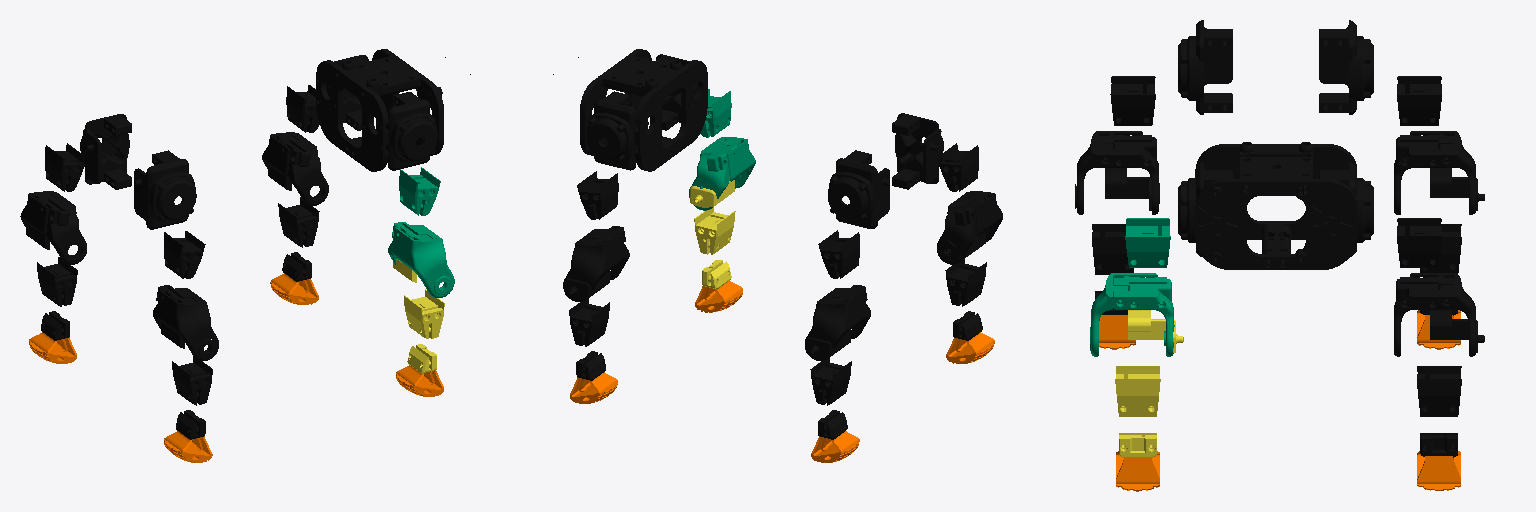
--- Facts derived from the render (not from the file) ---
Views: 3 orthographic renders of the robot side by side, from view 1: azimuth 30°, elevation 25°; view 2: azimuth 150°, elevation 25°; view 3: azimuth 270°, elevation 25°.
Model spot with 25 links and 24 joints (12 revolute, 12 fixed), rooted at base_link, posed all joints at 0.
Visible links, largest first — view 1: front_bracket, front_right_upper_leg, back_right_upper_leg, back_left_upper_leg, front_left_upper_leg, back_right_hip, back_left_hip, front_right_hip, back_right_lower_leg, front_left_lower_leg, back_left_lower_leg, front_right_lower_leg (+5 smaller); view 2: front_bracket, back_right_upper_leg, front_left_upper_leg, back_left_upper_leg, back_left_hip, front_right_upper_leg, back_right_hip, front_left_hip, front_left_lower_leg, front_right_lower_leg, back_left_lower_leg, back_right_lower_leg (+5 smaller); view 3: front_bracket, front_right_upper_leg, back_right_upper_leg, back_left_upper_leg, front_left_upper_leg, front_right_lower_leg, front_left_lower_leg, back_left_hip, back_right_hip, back_right_lower_leg, back_left_lower_leg, front_right_hip (+5 smaller).
Boxes of the visible links, box(x1,y1,x2,y2) form: front_bracket: box(316, 49, 470, 171); front_right_upper_leg: box(388, 167, 454, 297); back_right_upper_leg: box(153, 231, 218, 360); back_left_upper_leg: box(20, 143, 86, 264); front_left_upper_leg: box(262, 85, 328, 205); back_right_hip: box(134, 150, 196, 229); back_left_hip: box(80, 114, 131, 189); front_right_hip: box(376, 92, 437, 170); back_right_lower_leg: box(161, 322, 212, 439); front_left_lower_leg: box(268, 166, 319, 281); back_left_lower_leg: box(26, 225, 77, 340); front_right_lower_leg: box(393, 259, 444, 373); front_bracket: box(553, 49, 707, 171); back_right_upper_leg: box(937, 143, 1002, 264); front_left_upper_leg: box(563, 171, 629, 301); back_left_upper_leg: box(805, 230, 870, 360); back_left_hip: box(828, 150, 889, 228); front_right_upper_leg: box(689, 89, 755, 210); back_right_hip: box(892, 113, 943, 189); front_left_hip: box(586, 91, 648, 170); front_left_lower_leg: box(565, 271, 609, 380); front_right_lower_leg: box(690, 180, 735, 288); back_left_lower_leg: box(806, 330, 851, 439); back_right_lower_leg: box(945, 231, 986, 340); front_bracket: box(1195, 142, 1356, 269); front_right_upper_leg: box(1090, 218, 1174, 356); back_right_upper_leg: box(1075, 76, 1159, 214); back_left_upper_leg: box(1394, 76, 1475, 214); front_left_upper_leg: box(1394, 218, 1475, 356); front_right_lower_leg: box(1115, 310, 1183, 457); front_left_lower_leg: box(1417, 310, 1484, 457); back_left_hip: box(1319, 20, 1373, 114); back_right_hip: box(1178, 20, 1232, 114); back_right_lower_leg: box(1092, 168, 1151, 314); back_left_lower_leg: box(1420, 168, 1484, 315); front_right_hip: box(1178, 162, 1232, 256).
Bounding box of the posed robot: 0.3501 × 0.2785 × 0.2539 m (x, y, z).
Meshes: 16 distinct files referenced, 17 mesh visuals loaded (9 binary STL); not drawn: 7 (reference not matched to a file when rendering).

URDF robot description (spot):
<?xml version="1.0" encoding="utf-8"?>
<!-- =================================================================================== -->
<!-- |    This document was autogenerated by xacro from spot.urdf.xacro                | -->
<!-- |    EDITING THIS FILE BY HAND IS NOT RECOMMENDED                                 | -->
<!-- =================================================================================== -->
<robot name="spot">
  <material name="orange">
    <color rgba="1.0 0.5 0.0 1"/>
  </material>
  <material name="black">
    <color rgba="0.1 0.1 0.1 1"/>
  </material>
  <material name="grey">
    <color rgba="0.6 0.6 0.6 1"/>
  </material>
  <!-- Left Leg: prefix is front or rear -->
  <!--   <xacro:macro name="LeftLeg" params="prefix reflect">
    <link name="${prefix}_Left_Leg">
        <visual>
            <geometry>
                <box size="${leglen} 0.1 0.2"/>
            </geometry>
            <origin xyz="0 0 -${leglen/2}" rpy="0 ${pi/2} 0"/>
            <material name="white"/>
        </visual>
        <collision>
            <geometry>
                <box size="${leglen} 0.1 0.2"/>
            </geometry>
            <origin xyz="0 0 -${leglen/2}" rpy="0 ${pi/2} 0"/>
        </collision>
        <xacro:default_inertial mass="10"/>
    </link>

    <joint name="base_to_${prefix}_leg" type="fixed">
        <parent link="base_link"/>
        <child link="${prefix}_leg"/>
        <origin xyz="0 ${reflect*(width+.02)} 0.25" />
    </joint>
</xacro:macro> -->
  <!-- <xacro:include filename="$(find mini_ros)/urdf/accessories.urdf.xacro" /> -->
  <!-- Robot description -->
  <!-- STATIC Links -->
  <link name="base_link"/>
  <link name="base_inertia">
    <visual>
      <origin rpy="0 0 1.57079632679" xyz="-0.16 0.035 -0.045"/>
      <geometry>
        <mesh filename="package://mini_ros/stl/OpenQuadruped/MAINBODY.stl" scale="1 1 1"/>
      </geometry>
      <material name="orange"/>
    </visual>
    <collision>
      <origin rpy="0 0 1.57079632679" xyz="0 0 0"/>
      <geometry>
        <box size="0.114 0.2 0.1"/>
      </geometry>
    </collision>
    <inertial>
      <mass value="0.6"/>
      <origin rpy="0 0 0" xyz="0 0 0"/>
      <!-- Inertial Axes -->
      <inertia ixx="0.0025" ixy="0" ixz="0" iyx="0" iyy="0.0011498" iyz="0" izx="0" izy="0" izz="0.0026498"/>
    </inertial>
  </link>
  <gazebo reference="base_inertia">
    <material>Gazebo/Orange</material>
  </gazebo>
  <!-- m to mm -->
  <link name="battery">
    <visual>
      <origin rpy="0 0 1.57079632679" xyz="-0.15 0.035 -0.022"/>
      <geometry>
        <mesh filename="package://mini_ros/stl/OpenQuadruped/Battery.stl" scale="1 1 1"/>
      </geometry>
      <material name="black"/>
    </visual>
    <collision>
      <origin rpy="0 0 1.57079632679" xyz="0 0 0"/>
      <geometry>
        <box size="0.048 0.145 0.026"/>
      </geometry>
    </collision>
    <inertial>
      <mass value="0.4"/>
      <origin rpy="0 0 0" xyz="0 0 0"/>
      <!-- Inertial Axes -->
      <inertia ixx="0.000723366666667" ixy="0" ixz="0" iyx="0" iyy="9.93333333333e-05" iyz="0" izx="0" izy="0" izz="0.000777633333333"/>
    </inertial>
  </link>
  <gazebo reference="battery">
    <material>Gazebo/Black</material>
  </gazebo>
  <!-- m to mm -->
  <link name="chassis_left">
    <visual>
      <origin rpy="0 1.57079632679 -1.57079632679" xyz="0.016 0.003 0"/>
      <geometry>
        <mesh filename="package://mini_ros/stl/OpenQuadruped/Chassis_Left_Side.stl" scale="1 1 1"/>
      </geometry>
      <material name="black"/>
    </visual>
    <collision>
      <origin rpy="0 1.57079632679 -1.57079632679" xyz="0 0 0"/>
      <geometry>
        <box size="0.06 0.15 0.006"/>
      </geometry>
    </collision>
    <inertial>
      <mass value="0.01"/>
      <origin rpy="0 0 0" xyz="0 0 0"/>
      <!-- Inertial Axes -->
      <inertia ixx="1.878e-05" ixy="0" ixz="0" iyx="0" iyy="3.03e-06" iyz="0" izx="0" izy="0" izz="2.175e-05"/>
    </inertial>
  </link>
  <gazebo reference="chassis_left">
    <material>Gazebo/Black</material>
  </gazebo>
  <!-- m to mm -->
  <link name="chassis_right">
    <visual>
      <origin rpy="0 1.57079632679 1.57079632679" xyz="-0.016 -0.003 0"/>
      <geometry>
        <mesh filename="package://mini_ros/stl/OpenQuadruped/Chassis_Right_Side.stl" scale="1 1 1"/>
      </geometry>
      <material name="black"/>
    </visual>
    <collision>
      <origin rpy="0 1.57079632679 1.57079632679" xyz="0 0 0"/>
      <geometry>
        <box size="0.06 0.15 0.006"/>
      </geometry>
    </collision>
    <inertial>
      <mass value="0.01"/>
      <origin rpy="0 0 0" xyz="0 0 0"/>
      <!-- Inertial Axes -->
      <inertia ixx="1.878e-05" ixy="0" ixz="0" iyx="0" iyy="3.03e-06" iyz="0" izx="0" izy="0" izz="2.175e-05"/>
    </inertial>
  </link>
  <gazebo reference="chassis_right">
    <material>Gazebo/Black</material>
  </gazebo>
  <!-- m to mm -->
  <link name="front">
    <visual>
      <origin rpy="0 0 1.57079632679" xyz="-0.16 0.035 -0.045"/>
      <geometry>
        <mesh filename="package://mini_ros/stl/OpenQuadruped/Front.stl" scale="1 1 1"/>
      </geometry>
      <material name="orange"/>
    </visual>
    <collision>
      <origin rpy="0 0 1.57079632679" xyz="0.16 0 0.006"/>
      <geometry>
        <box size="0.114 0.045 0.085"/>
      </geometry>
    </collision>
    <inertial>
      <mass value="0.1"/>
      <origin rpy="0 0 0" xyz="0 0 0"/>
      <!-- Inertial Axes -->
      <inertia ixx="7.70833333333e-05" ixy="0" ixz="0" iyx="0" iyy="0.000168508333333" iyz="0" izx="0" izy="0" izz="0.000125175"/>
    </inertial>
  </link>
  <gazebo reference="front">
    <material>Gazebo/Orange</material>
  </gazebo>
  <!-- m to mm -->
  <link name="back">
    <visual>
      <origin rpy="0 0 1.57079632679" xyz="-0.16 0.035 -0.045"/>
      <geometry>
        <mesh filename="package://mini_ros/stl/OpenQuadruped/Back.stl" scale="1 1 1"/>
      </geometry>
      <material name="orange"/>
    </visual>
    <collision>
      <origin rpy="0 0 1.57079632679" xyz="-0.16 0 0.006"/>
      <geometry>
        <box size="0.114 0.075 0.085"/>
      </geometry>
    </collision>
    <inertial>
      <mass value="0.1"/>
      <origin rpy="0 0 0" xyz="0 0 0"/>
      <!-- Inertial Axes -->
      <inertia ixx="0.000107083333333" ixy="0" ixz="0" iyx="0" iyy="0.000168508333333" iyz="0" izx="0" izy="0" izz="0.000155175"/>
    </inertial>
  </link>
  <gazebo reference="back">
    <material>Gazebo/Orange</material>
  </gazebo>
  <!-- m to mm -->
  <link name="front_bracket">
    <visual>
      <origin rpy="0 0 1.57079632679" xyz="-0.16 0.035 -0.045"/>
      <geometry>
        <mesh filename="package://mini_ros/stl/OpenQuadruped/Front_Bracket.stl" scale="1 1 1"/>
      </geometry>
      <material name="black"/>
    </visual>
    <collision>
      <origin rpy="0 0 1.57079632679" xyz="0.1 0 0"/>
      <geometry>
        <box size="0.025 0.075 0.085"/>
      </geometry>
    </collision>
    <inertial>
      <mass value="0.1"/>
      <origin rpy="0 0 0" xyz="0 0 0"/>
      <!-- Inertial Axes -->
      <inertia ixx="0.000107083333333" ixy="0" ixz="0" iyx="0" iyy="6.54166666667e-05" iyz="0" izx="0" izy="0" izz="5.20833333333e-05"/>
    </inertial>
  </link>
  <gazebo reference="front_bracket">
    <material>Gazebo/Black</material>
  </gazebo>
  <!-- m to mm -->
  <link name="back_bracket">
    <visual>
      <origin rpy="0 0 1.57079632679" xyz="-0.16 0.035 -0.045"/>
      <geometry>
        <mesh filename="package://mini_ros/stl/OpenQuadruped/Back_Bracket.stl" scale="1 1 1"/>
      </geometry>
      <material name="black"/>
    </visual>
    <collision>
      <origin rpy="0 0 1.57079632679" xyz="-0.1 0 0"/>
      <geometry>
        <box size="0.025 0.075 0.085"/>
      </geometry>
    </collision>
    <inertial>
      <mass value="0.1"/>
      <origin rpy="0 0 0" xyz="0 0 0"/>
      <!-- Inertial Axes -->
      <inertia ixx="0.000107083333333" ixy="0" ixz="0" iyx="0" iyy="6.54166666667e-05" iyz="0" izx="0" izy="0" izz="5.20833333333e-05"/>
    </inertial>
  </link>
  <gazebo reference="back_bracket">
    <material>Gazebo/Black</material>
  </gazebo>
  <!-- m to mm -->
  <link name="front_left_hip">
    <visual>
      <origin rpy="0 0 1.57079632679" xyz="-0.25 -0.0044 -0.067"/>
      <geometry>
        <mesh filename="package://mini_ros/stl/OpenQuadruped/LEFT_HIP.stl" scale="1 1 1"/>
      </geometry>
      <material name="black"/>
    </visual>
    <collision>
      <origin rpy="0 0 1.57079632679" xyz="0.015 0.01 -0.01"/>
      <geometry>
        <box size="0.05 0.065 0.065"/>
      </geometry>
    </collision>
    <inertial>
      <mass value="0.2"/>
      <origin rpy="0 0 0" xyz="0 0.075 0"/>
      <!-- Inertial Axes -->
      <inertia ixx="0.000140833333333" ixy="0" ixz="0" iyx="0" iyy="0.000112083333333" iyz="0" izx="0" izy="0" izz="0.000112083333333"/>
    </inertial>
  </link>
  <gazebo reference="front_left_hip">
    <material>Gazebo/Black</material>
  </gazebo>
  <joint name="motor_front_left_hip" type="revolute">
    <axis xyz="1 0 0"/>
    <origin rpy="0 0 0" xyz="0.0915 0.0394 0.022"/>
    <parent link="front_bracket"/>
    <child link="front_left_hip"/>
    <limit effort="4.0" lower="-1.04" upper="1.04" velocity="4.0"/>
    <joint_properties damping="0.0" friction="0.0"/>
  </joint>
  <link name="front_left_upper_leg">
    <visual>
      <origin rpy="0 0 1.57079632679" xyz="-0.252 -0.05 -0.055"/>
      <geometry>
        <mesh filename="package://mini_ros/stl/OpenQuadruped/LEFT_UPPER_LEG.stl" scale="1 1 1"/>
      </geometry>
      <material name="black"/>
    </visual>
    <collision>
      <origin rpy="0 0 1.57079632679" xyz="0 0.02 -0.05"/>
      <geometry>
        <box size="0.035 0.035 0.11"/>
      </geometry>
    </collision>
    <inertial>
      <mass value="0.13"/>
      <origin rpy="0 0 0" xyz="-0.005 0.0175 -0.055"/>
      <!-- Inertial Axes -->
      <inertia ixx="0.000144354166667" ixy="0" ixz="0" iyx="0" iyy="0.000144354166667" iyz="0" izx="0" izy="0" izz="2.65416666667e-05"/>
    </inertial>
  </link>
  <gazebo reference="front_left_upper_leg">
    <material>Gazebo/Black</material>
  </gazebo>
  <joint name="motor_front_left_upper_leg" type="revolute">
    <axis xyz="0 1 0"/>
    <origin rpy="0 0 0" xyz="0.0015 0.045 -0.0087"/>
    <parent link="front_left_hip"/>
    <child link="front_left_upper_leg"/>
    <limit effort="4.0" lower="-1.57079632679" upper="2.59" velocity="4.0"/>
    <joint_properties damping="0.0" friction="0.0"/>
  </joint>
  <link name="front_left_lower_leg">
    <visual>
      <origin rpy="0 0 1.57079632679" xyz="-0.247 -0.068 0.0535"/>
      <geometry>
        <mesh filename="package://mini_ros/stl/OpenQuadruped/LEFT_LOWER_LEG.stl" scale="1 1 1"/>
      </geometry>
      <material name="black"/>
    </visual>
    <collision>
      <origin rpy="0 0 1.57079632679" xyz="0 0 -0.06"/>
      <geometry>
        <box size="0.035 0.035 0.12"/>
      </geometry>
    </collision>
    <inertial>
      <mass value="0.05"/>
      <origin rpy="0 0 0" xyz="-0.01 0 -0.06"/>
      <!-- Inertial Axes -->
      <inertia ixx="6.51041666667e-05" ixy="0" ixz="0" iyx="0" iyy="6.51041666667e-05" iyz="0" izx="0" izy="0" izz="1.02083333333e-05"/>
    </inertial>
  </link>
  <gazebo reference="front_left_lower_leg">
    <material>Gazebo/Black</material>
  </gazebo>
  <joint name="motor_front_left_lower_leg" type="revolute">
    <axis xyz="0 1 0"/>
    <origin rpy="0 0 0" xyz="-0.005 0.018 -0.109"/>
    <parent link="front_left_upper_leg"/>
    <child link="front_left_lower_leg"/>
    <limit effort="4.0" lower="-2.9" upper="1.57079632679" velocity="4.0"/>
    <joint_properties damping="0.0" friction="0.0"/>
  </joint>
  <link name="front_left_foot">
    <visual>
      <origin rpy="0 0 1.57079632679" xyz="-0.247 -0.068 0.18"/>
      <geometry>
        <mesh filename="package://mini_ros/stl/OpenQuadruped/LEFT_FOOT.stl" scale="1 1 1"/>
      </geometry>
      <material name="orange"/>
    </visual>
    <collision>
      <origin rpy="0 0 1.57079632679" xyz="-0.247 -0.068 0.18"/>
      <geometry>
        <mesh filename="package://mini_ros/stl/OpenQuadruped/LEFT_FOOT.stl" scale="1 1 1"/>
      </geometry>
      <contact_coefficients mu="10.1"/>
    </collision>
    <inertial>
      <mass value="0.005"/>
      <origin rpy="0 0 0" xyz="0 0 0"/>
      <!-- Inertial Axes -->
      <inertia ixx="3.52083333333e-06" ixy="0" ixz="0" iyx="0" iyy="2.80208333333e-06" iyz="0" izx="0" izy="0" izz="2.80208333333e-06"/>
    </inertial>
  </link>
  <gazebo reference="front_left_foot">
    <kp>1000000.0</kp>
    <kd>1.0</kd>
    <mu1>0.8</mu1>
    <mu2>0.8</mu2>
    <maxVel>0.0</maxVel>
    <minDepth>0.001</minDepth>
    <material>Gazebo/Orange</material>
  </gazebo>
  <joint name="front_left_leg_foot" type="fixed">
    <origin rpy="0 0 0" xyz="0 0 -0.1265"/>
    <parent link="front_left_lower_leg"/>
    <child link="front_left_foot"/>
  </joint>
  <link name="back_left_hip">
    <visual>
      <origin rpy="0 0 1.57079632679" xyz="-0.25 -0.0044 -0.067"/>
      <geometry>
        <mesh filename="package://mini_ros/stl/OpenQuadruped/LEFT_HIP.stl" scale="1 1 1"/>
      </geometry>
      <material name="black"/>
    </visual>
    <collision>
      <origin rpy="0 0 1.57079632679" xyz="0.015 0.01 -0.01"/>
      <geometry>
        <box size="0.05 0.065 0.065"/>
      </geometry>
    </collision>
    <inertial>
      <mass value="0.2"/>
      <origin rpy="0 0 0" xyz="0 0.075 0"/>
      <!-- Inertial Axes -->
      <inertia ixx="0.000140833333333" ixy="0" ixz="0" iyx="0" iyy="0.000112083333333" iyz="0" izx="0" izy="0" izz="0.000112083333333"/>
    </inertial>
  </link>
  <gazebo reference="back_left_hip">
    <material>Gazebo/Black</material>
  </gazebo>
  <joint name="motor_back_left_hip" type="revolute">
    <axis xyz="1 0 0"/>
    <origin rpy="0 0 0" xyz="-0.1365 0.0394 0.022"/>
    <parent link="back_bracket"/>
    <child link="back_left_hip"/>
    <limit effort="4.0" lower="-1.04" upper="1.04" velocity="4.0"/>
    <joint_properties damping="0.0" friction="0.0"/>
  </joint>
  <link name="back_left_upper_leg">
    <visual>
      <origin rpy="0 0 1.57079632679" xyz="-0.252 -0.05 -0.055"/>
      <geometry>
        <mesh filename="package://mini_ros/stl/OpenQuadruped/LEFT_UPPER_LEG.stl" scale="1 1 1"/>
      </geometry>
      <material name="black"/>
    </visual>
    <collision>
      <origin rpy="0 0 1.57079632679" xyz="0 0.02 -0.05"/>
      <geometry>
        <box size="0.035 0.035 0.11"/>
      </geometry>
    </collision>
    <inertial>
      <mass value="0.13"/>
      <origin rpy="0 0 0" xyz="-0.005 0.0175 -0.055"/>
      <!-- Inertial Axes -->
      <inertia ixx="0.000144354166667" ixy="0" ixz="0" iyx="0" iyy="0.000144354166667" iyz="0" izx="0" izy="0" izz="2.65416666667e-05"/>
    </inertial>
  </link>
  <gazebo reference="back_left_upper_leg">
    <material>Gazebo/Black</material>
  </gazebo>
  <joint name="motor_back_left_upper_leg" type="revolute">
    <axis xyz="0 1 0"/>
    <origin rpy="0 0 0" xyz="0.0015 0.045 -0.0087"/>
    <parent link="back_left_hip"/>
    <child link="back_left_upper_leg"/>
    <limit effort="4.0" lower="-1.57079632679" upper="2.59" velocity="4.0"/>
    <joint_properties damping="0.0" friction="0.0"/>
  </joint>
  <link name="back_left_lower_leg">
    <visual>
      <origin rpy="0 0 1.57079632679" xyz="-0.247 -0.068 0.0535"/>
      <geometry>
        <mesh filename="package://mini_ros/stl/OpenQuadruped/LEFT_LOWER_LEG.stl" scale="1 1 1"/>
      </geometry>
      <material name="black"/>
    </visual>
    <collision>
      <origin rpy="0 0 1.57079632679" xyz="0 0 -0.06"/>
      <geometry>
        <box size="0.035 0.035 0.12"/>
      </geometry>
    </collision>
    <inertial>
      <mass value="0.05"/>
      <origin rpy="0 0 0" xyz="-0.01 0 -0.06"/>
      <!-- Inertial Axes -->
      <inertia ixx="6.51041666667e-05" ixy="0" ixz="0" iyx="0" iyy="6.51041666667e-05" iyz="0" izx="0" izy="0" izz="1.02083333333e-05"/>
    </inertial>
  </link>
  <gazebo reference="back_left_lower_leg">
    <material>Gazebo/Black</material>
  </gazebo>
  <joint name="motor_back_left_lower_leg" type="revolute">
    <axis xyz="0 1 0"/>
    <origin rpy="0 0 0" xyz="-0.005 0.018 -0.109"/>
    <parent link="back_left_upper_leg"/>
    <child link="back_left_lower_leg"/>
    <limit effort="4.0" lower="-2.9" upper="1.57079632679" velocity="4.0"/>
    <joint_properties damping="0.0" friction="0.0"/>
  </joint>
  <link name="back_left_foot">
    <visual>
      <origin rpy="0 0 1.57079632679" xyz="-0.247 -0.068 0.18"/>
      <geometry>
        <mesh filename="package://mini_ros/stl/OpenQuadruped/LEFT_FOOT.stl" scale="1 1 1"/>
      </geometry>
      <material name="orange"/>
    </visual>
    <collision>
      <origin rpy="0 0 1.57079632679" xyz="-0.247 -0.068 0.18"/>
      <geometry>
        <mesh filename="package://mini_ros/stl/OpenQuadruped/LEFT_FOOT.stl" scale="1 1 1"/>
      </geometry>
      <contact_coefficients mu="10.1"/>
    </collision>
    <inertial>
      <mass value="0.005"/>
      <origin rpy="0 0 0" xyz="0 0 0"/>
      <!-- Inertial Axes -->
      <inertia ixx="3.52083333333e-06" ixy="0" ixz="0" iyx="0" iyy="2.80208333333e-06" iyz="0" izx="0" izy="0" izz="2.80208333333e-06"/>
    </inertial>
  </link>
  <gazebo reference="back_left_foot">
    <kp>1000000.0</kp>
    <kd>1.0</kd>
    <mu1>0.8</mu1>
    <mu2>0.8</mu2>
    <maxVel>0.0</maxVel>
    <minDepth>0.001</minDepth>
    <material>Gazebo/Orange</material>
  </gazebo>
  <joint name="back_left_leg_foot" type="fixed">
    <origin rpy="0 0 0" xyz="0 0 -0.1265"/>
    <parent link="back_left_lower_leg"/>
    <child link="back_left_foot"/>
  </joint>
  <link name="front_right_hip">
    <visual>
      <origin rpy="0 0 1.57079632679" xyz="-0.25 0.074 -0.067"/>
      <geometry>
        <mesh filename="package://mini_ros/stl/OpenQuadruped/RIGHT_HIP.stl" scale="1 1 1"/>
      </geometry>
      <material name="black"/>
    </visual>
    <collision>
      <origin rpy="0 0 1.57079632679" xyz="0.015 -0.01 -0.01"/>
      <geometry>
        <box size="0.05 0.065 0.065"/>
      </geometry>
    </collision>
    <inertial>
      <mass value="0.2"/>
      <origin rpy="0 0 0" xyz="0 -0.075 0"/>
      <!-- Inertial Axes -->
      <inertia ixx="0.000140833333333" ixy="0" ixz="0" iyx="0" iyy="0.000112083333333" iyz="0" izx="0" izy="0" izz="0.000112083333333"/>
    </inertial>
  </link>
  <gazebo reference="front_right_hip">
    <material>Gazebo/Black</material>
  </gazebo>
  <joint name="motor_front_right_hip" type="revolute">
    <axis xyz="1 0 0"/>
    <origin rpy="0 0 0" xyz="0.0915 -0.0394 0.022"/>
    <parent link="front_bracket"/>
    <child link="front_right_hip"/>
    <limit effort="4.0" lower="-1.04" upper="1.04" velocity="4.0"/>
    <joint_properties damping="0.0" friction="0.0"/>
  </joint>

  
  <link name="front_right_upper_leg">
    <visual>
      <origin rpy="0 0 1.57079632679" xyz="-0.252 0.13 -0.053"/>
      <geometry>
        <mesh filename="package://mini_ros/stl/OpenQuadruped/RIGHT_UPPER_LEG.stl" scale="1 1 1"/>
      </geometry>
      <material name="maroon"/>
    </visual>
    <collision>
      <origin rpy="0 0 1.57079632679" xyz="0 -0.01 -0.038"/>
      <geometry>
        <box size="0.035 0.035 0.11"/>
      </geometry>
    </collision>
    <inertial>
      <mass value="0.13"/>
      <origin rpy="0 0 0" xyz="-0.005 -0.017 -0.053"/>
      <!-- Inertial Axes -->
      <inertia ixx="0.000144354166667" ixy="0" ixz="0" iyx="0" iyy="0.000144354166667" iyz="0" izx="0" izy="0" izz="2.65416666667e-05"/>
    </inertial>
  </link>
  <gazebo reference="front_right_upper_leg">
  </gazebo>
  <joint name="motor_front_right_upper_leg" type="revolute">
    <axis xyz="0 1 0"/>
    <origin rpy="0 0 0" xyz="0.0015 -0.045 -0.011"/>
    <parent link="front_right_hip"/>
    <child link="front_right_upper_leg"/>
    <limit effort="4.0" lower="-1.57079632679" upper="2.59" velocity="4.0"/>
    <joint_properties damping="0.0" friction="0.0"/>
  </joint>





  <link name="front_right_lower_leg">
    <visual>
      <origin rpy="0 0 1.57079632679" xyz="-0.247 0.138 0.0535"/>
      <geometry>
        <mesh filename="package://mini_ros/stl/OpenQuadruped/RIGHT_LOWER_LEG.stl" scale="1 1 1"/>
      </geometry>
      <material name="yellow"/>
    </visual>
    <collision>
      <origin rpy="0 0 1.57079632679" xyz="0 -0.01 -0.04"/>
      <geometry>
        <box size="0.035 0.035 0.11"/>
      </geometry>
    </collision>
    <inertial>
      <mass value="0.05"/>
      <origin rpy="0 0 0" xyz="-0.01 0 -0.06"/>
      <!-- Inertial Axes -->
      <inertia ixx="5.55208333333e-05" ixy="0" ixz="0" iyx="0" iyy="5.55208333333e-05" iyz="0" izx="0" izy="0" izz="1.02083333333e-05"/>
    </inertial>
  </link>
  <gazebo reference="front_right_lower_leg">
  </gazebo>
  <joint name="motor_front_right_lower_leg" type="revolute">
    <axis xyz="0 1 0"/>
    <origin rpy="0 0 0" xyz="-0.005 -0.002 -0.1068"/>
    <parent link="front_right_upper_leg"/>
    <child link="front_right_lower_leg"/>
    <limit effort="4.0" lower="-2.9" upper="1.57079632679" velocity="4.0"/>
    <joint_properties damping="0.0" friction="0.0"/>
  </joint>

  <link name="front_right_foot">
    <visual>
      <origin rpy="0 0 1.57079632679" xyz="-0.247 0.138 0.18"/>
      <geometry>
        <mesh filename="package://mini_ros/stl/OpenQuadruped/RIGHT_FOOT.stl" scale="1 1 1"/>
      </geometry>
      <material name="orange"/>
    </visual>
    <collision>
      <origin rpy="0 0 1.57079632679" xyz="-0.247 0.138 0.18"/>
      <geometry>
        <mesh filename="package://mini_ros/stl/OpenQuadruped/RIGHT_FOOT.stl" scale="1 1 1"/>
      </geometry>
      <contact_coefficients mu="10.1"/>
    </collision>
    <inertial>
      <mass value="0.005"/>
      <origin rpy="0 0 0" xyz="0 0 0"/>
      <!-- Inertial Axes -->
      <inertia ixx="3.52083333333e-06" ixy="0" ixz="0" iyx="0" iyy="2.80208333333e-06" iyz="0" izx="0" izy="0" izz="2.80208333333e-06"/>
    </inertial>
  </link>

  <gazebo reference="front_right_foot">
    <kp>1000000.0</kp>
    <kd>1.0</kd>
    <mu1>0.8</mu1>
    <mu2>0.8</mu2>
    <maxVel>0.0</maxVel>
    <minDepth>0.001</minDepth>
    <material>Gazebo/Orange</material>
  </gazebo>
  <joint name="front_right_leg_foot" type="fixed">
    <origin rpy="0 0 0" xyz="0 0 -0.1265"/>
    <parent link="front_right_lower_leg"/>
    <child link="front_right_foot"/>
  </joint>
  <link name="back_right_hip">
    <visual>
      <origin rpy="0 0 1.57079632679" xyz="-0.25 0.074 -0.067"/>
      <geometry>
        <mesh filename="package://mini_ros/stl/OpenQuadruped/RIGHT_HIP.stl" scale="1 1 1"/>
      </geometry>
      <material name="black"/>
    </visual>
    <collision>
      <origin rpy="0 0 1.57079632679" xyz="0.015 -0.01 -0.01"/>
      <geometry>
        <box size="0.05 0.065 0.065"/>
      </geometry>
    </collision>
    <inertial>
      <mass value="0.2"/>
      <origin rpy="0 0 0" xyz="0 -0.075 0"/>
      <!-- Inertial Axes -->
      <inertia ixx="0.000140833333333" ixy="0" ixz="0" iyx="0" iyy="0.000112083333333" iyz="0" izx="0" izy="0" izz="0.000112083333333"/>
    </inertial>
  </link>
  <gazebo reference="back_right_hip">
    <material>Gazebo/Black</material>
  </gazebo>
  <joint name="motor_back_right_hip" type="revolute">
    <axis xyz="1 0 0"/>
    <origin rpy="0 0 0" xyz="-0.1365 -0.0394 0.022"/>
    <parent link="back_bracket"/>
    <child link="back_right_hip"/>
    <limit effort="4.0" lower="-1.04" upper="1.04" velocity="4.0"/>
    <joint_properties damping="0.0" friction="0.0"/>
  </joint>
  <link name="back_right_upper_leg">
    <visual>
      <origin rpy="0 0 1.57079632679" xyz="-0.252 0.12 -0.055"/>
      <geometry>
        <mesh filename="package://mini_ros/stl/OpenQuadruped/RIGHT_UPPER_LEG.stl" scale="1 1 1"/>
      </geometry>
      <material name="black"/>
    </visual>
    <collision>
      <origin rpy="0 0 1.57079632679" xyz="0 -0.02 -0.05"/>
      <geometry>
        <box size="0.035 0.035 0.11"/>
      </geometry>
    </collision>
    <inertial>
      <mass value="0.13"/>
      <origin rpy="0 0 0" xyz="-0.005 -0.0175 -0.055"/>
      <!-- Inertial Axes -->
      <inertia ixx="0.000144354166667" ixy="0" ixz="0" iyx="0" iyy="0.000144354166667" iyz="0" izx="0" izy="0" izz="2.65416666667e-05"/>
    </inertial>
  </link>
  <gazebo reference="back_right_upper_leg">
    <material>Gazebo/Black</material>
  </gazebo>
  <joint name="motor_back_right_upper_leg" type="revolute">
    <axis xyz="0 1 0"/>
    <origin rpy="0 0 0" xyz="0.0015 -0.045 -0.0087"/>
    <parent link="back_right_hip"/>
    <child link="back_right_upper_leg"/>
    <limit effort="4.0" lower="-1.57079632679" upper="2.59" velocity="4.0"/>
    <joint_properties damping="0.0" friction="0.0"/>
  </joint>
  <link name="back_right_lower_leg">
    <visual>
      <origin rpy="0 0 1.57079632679" xyz="-0.247 0.138 0.0535"/>
      <geometry>
        <mesh filename="package://mini_ros/stl/OpenQuadruped/RIGHT_LOWER_LEG.stl" scale="1 1 1"/>
      </geometry>
      <material name="black"/>
    </visual>
    <collision>
      <origin rpy="0 0 1.57079632679" xyz="0 0 -0.06"/>
      <geometry>
        <box size="0.035 0.035 0.12"/>
      </geometry>
    </collision>
    <inertial>
      <mass value="0.05"/>
      <origin rpy="0 0 0" xyz="-0.01 0 -0.06"/>
      <!-- Inertial Axes -->
      <inertia ixx="6.51041666667e-05" ixy="0" ixz="0" iyx="0" iyy="6.51041666667e-05" iyz="0" izx="0" izy="0" izz="1.02083333333e-05"/>
    </inertial>
  </link>
  <gazebo reference="back_right_lower_leg">
    <material>Gazebo/Black</material>
  </gazebo>
  <joint name="motor_back_right_lower_leg" type="revolute">
    <axis xyz="0 1 0"/>
    <origin rpy="0 0 0" xyz="-0.005 -0.018 -0.109"/>
    <parent link="back_right_upper_leg"/>
    <child link="back_right_lower_leg"/>
    <limit effort="4.0" lower="-2.9" upper="1.57079632679" velocity="4.0"/>
    <joint_properties damping="0.0" friction="0.0"/>
  </joint>
  <link name="back_right_foot">
    <visual>
      <origin rpy="0 0 1.57079632679" xyz="-0.247 0.138 0.18"/>
      <geometry>
        <mesh filename="package://mini_ros/stl/OpenQuadruped/RIGHT_FOOT.stl" scale="1 1 1"/>
      </geometry>
      <material name="orange"/>
    </visual>
    <collision>
      <origin rpy="0 0 1.57079632679" xyz="-0.247 0.138 0.18"/>
      <geometry>
        <mesh filename="package://mini_ros/stl/OpenQuadruped/RIGHT_FOOT.stl" scale="1 1 1"/>
      </geometry>
      <contact_coefficients mu="10.1"/>
    </collision>
    <inertial>
      <mass value="0.005"/>
      <origin rpy="0 0 0" xyz="0 0 0"/>
      <!-- Inertial Axes -->
      <inertia ixx="3.52083333333e-06" ixy="0" ixz="0" iyx="0" iyy="2.80208333333e-06" iyz="0" izx="0" izy="0" izz="2.80208333333e-06"/>
    </inertial>
  </link>
  <gazebo reference="back_right_foot">
    <kp>1000000.0</kp>
    <kd>1.0</kd>
    <mu1>0.8</mu1>
    <mu2>0.8</mu2>
    <maxVel>0.0</maxVel>
    <minDepth>0.001</minDepth>
    <material>Gazebo/Orange</material>
  </gazebo>
  <joint name="back_right_leg_foot" type="fixed">
    <origin rpy="0 0 0" xyz="0 0 -0.1265"/>
    <parent link="back_right_lower_leg"/>
    <child link="back_right_foot"/>
  </joint>
  <joint name="base_base" type="fixed">
    <origin rpy="0 0 0" xyz="0 0 0"/>
    <parent link="base_link"/>
    <child link="base_inertia"/>
  </joint>
  <joint name="base_battery" type="fixed">
    <origin rpy="0 0 0" xyz="-0.01 0 -0.0225"/>
    <parent link="base_link"/>
    <child link="battery"/>
  </joint>
  <joint name="base_left" type="fixed">
    <origin rpy="0 0 0" xyz="0.00 0.052 0"/>
    <parent link="base_link"/>
    <child link="chassis_left"/>
  </joint>
  <joint name="base_right" type="fixed">
    <origin rpy="0 0 0" xyz="0.00 -0.052 0"/>
    <parent link="base_link"/>
    <child link="chassis_right"/>
  </joint>
  <joint name="base_front" type="fixed">
    <origin rpy="0 0 0" xyz="0 0 0"/>
    <parent link="base_link"/>
    <child link="front"/>
  </joint>
  <joint name="base_back" type="fixed">
    <origin rpy="0 0 0" xyz="0 0 0"/>
    <parent link="base_link"/>
    <child link="back"/>
  </joint>
  <joint name="base_front_bracket" type="fixed">
    <origin rpy="0 0 0" xyz="0 0 0"/>
    <parent link="base_link"/>
    <child link="front_bracket"/>
  </joint>
  <joint name="base_back_bracket" type="fixed">
    <origin rpy="0 0 0" xyz="0 0 0"/>
    <parent link="base_link"/>
    <child link="back_bracket"/>
  </joint>
  <transmission name="front_left_hip_joint_trans">
    <type>transmission_interface/SimpleTransmission</type>
    <joint name="motor_front_left_hip">
      <hardwareInterface>hardware_interface/EffortJointInterface</hardwareInterface>
    </joint>
    <actuator name="front_left_hip_joint_motor">
      <hardwareInterface>hardware_interface/EffortJointInterface</hardwareInterface>
      <mechanicalReduction>1</mechanicalReduction>
    </actuator>
  </transmission>
  <transmission name="front_left_upper_leg_joint_trans">
    <type>transmission_interface/SimpleTransmission</type>
    <joint name="motor_front_left_lower_leg">
      <hardwareInterface>hardware_interface/EffortJointInterface</hardwareInterface>
    </joint>
    <actuator name="front_left_upper_leg_joint_motor">
      <hardwareInterface>hardware_interface/EffortJointInterface</hardwareInterface>
      <mechanicalReduction>1</mechanicalReduction>
    </actuator>
  </transmission>
  <transmission name="front_left_lower_leg_joint_trans">
    <type>transmission_interface/SimpleTransmission</type>
    <joint name="motor_front_left_upper_leg">
      <hardwareInterface>hardware_interface/EffortJointInterface</hardwareInterface>
    </joint>
    <actuator name="front_left_lower_joint_motor">
      <hardwareInterface>hardware_interface/EffortJointInterface</hardwareInterface>
      <mechanicalReduction>1</mechanicalReduction>
    </actuator>
  </transmission>
  <transmission name="front_right_hip_joint_trans">
    <type>transmission_interface/SimpleTransmission</type>
    <joint name="motor_front_right_hip">
      <hardwareInterface>hardware_interface/EffortJointInterface</hardwareInterface>
    </joint>
    <actuator name="front_right_hip_joint_motor">
      <hardwareInterface>hardware_interface/EffortJointInterface</hardwareInterface>
      <mechanicalReduction>1</mechanicalReduction>
    </actuator>
  </transmission>
  <transmission name="front_right_upper_leg_joint_trans">
    <type>transmission_interface/SimpleTransmission</type>
    <joint name="motor_front_right_lower_leg">
      <hardwareInterface>hardware_interface/EffortJointInterface</hardwareInterface>
    </joint>
    <actuator name="front_right_upper_leg_joint_motor">
      <hardwareInterface>hardware_interface/EffortJointInterface</hardwareInterface>
      <mechanicalReduction>1</mechanicalReduction>
    </actuator>
  </transmission>
  <transmission name="front_right_lower_leg_joint_trans">
    <type>transmission_interface/SimpleTransmission</type>
    <joint name="motor_front_right_upper_leg">
      <hardwareInterface>hardware_interface/EffortJointInterface</hardwareInterface>
    </joint>
    <actuator name="front_right_lower_joint_motor">
      <hardwareInterface>hardware_interface/EffortJointInterface</hardwareInterface>
      <mechanicalReduction>1</mechanicalReduction>
    </actuator>
  </transmission>
  <transmission name="back_left_hip_joint_trans">
    <type>transmission_interface/SimpleTransmission</type>
    <joint name="motor_back_left_hip">
      <hardwareInterface>hardware_interface/EffortJointInterface</hardwareInterface>
    </joint>
    <actuator name="back_left_hip_joint_motor">
      <hardwareInterface>hardware_interface/EffortJointInterface</hardwareInterface>
      <mechanicalReduction>1</mechanicalReduction>
    </actuator>
  </transmission>
  <transmission name="back_left_upper_leg_joint_trans">
    <type>transmission_interface/SimpleTransmission</type>
    <joint name="motor_back_left_lower_leg">
      <hardwareInterface>hardware_interface/EffortJointInterface</hardwareInterface>
    </joint>
    <actuator name="back_left_upper_leg_joint_motor">
      <hardwareInterface>hardware_interface/EffortJointInterface</hardwareInterface>
      <mechanicalReduction>1</mechanicalReduction>
    </actuator>
  </transmission>
  <transmission name="back_left_lower_leg_joint_trans">
    <type>transmission_interface/SimpleTransmission</type>
    <joint name="motor_back_left_upper_leg">
      <hardwareInterface>hardware_interface/EffortJointInterface</hardwareInterface>
    </joint>
    <actuator name="back_left_lower_joint_motor">
      <hardwareInterface>hardware_interface/EffortJointInterface</hardwareInterface>
      <mechanicalReduction>1</mechanicalReduction>
    </actuator>
  </transmission>
  <transmission name="back_right_hip_joint_trans">
    <type>transmission_interface/SimpleTransmission</type>
    <joint name="motor_back_right_hip">
      <hardwareInterface>hardware_interface/EffortJointInterface</hardwareInterface>
    </joint>
    <actuator name="back_right_hip_joint_motor">
      <hardwareInterface>hardware_interface/EffortJointInterface</hardwareInterface>
      <mechanicalReduction>1</mechanicalReduction>
    </actuator>
  </transmission>
  <transmission name="back_right_upper_leg_joint_trans">
    <type>transmission_interface/SimpleTransmission</type>
    <joint name="motor_back_right_lower_leg">
      <hardwareInterface>hardware_interface/EffortJointInterface</hardwareInterface>
    </joint>
    <actuator name="back_right_upper_leg_joint_motor">
      <hardwareInterface>hardware_interface/EffortJointInterface</hardwareInterface>
      <mechanicalReduction>1</mechanicalReduction>
    </actuator>
  </transmission>
  <transmission name="back_right_lower_leg_joint_trans">
    <type>transmission_interface/SimpleTransmission</type>
    <joint name="motor_back_right_upper_leg">
      <hardwareInterface>hardware_interface/EffortJointInterface</hardwareInterface>
    </joint>
    <actuator name="back_right_lower_joint_motor">
      <hardwareInterface>hardware_interface/EffortJointInterface</hardwareInterface>
      <mechanicalReduction>1</mechanicalReduction>
    </actuator>
  </transmission>
  <gazebo>
    <plugin filename="libgazebo_ros_control.so" name="gazebo_ros_control">
      <legacyModeNS>true</legacyModeNS>
    </plugin>
  </gazebo>
</robot>
